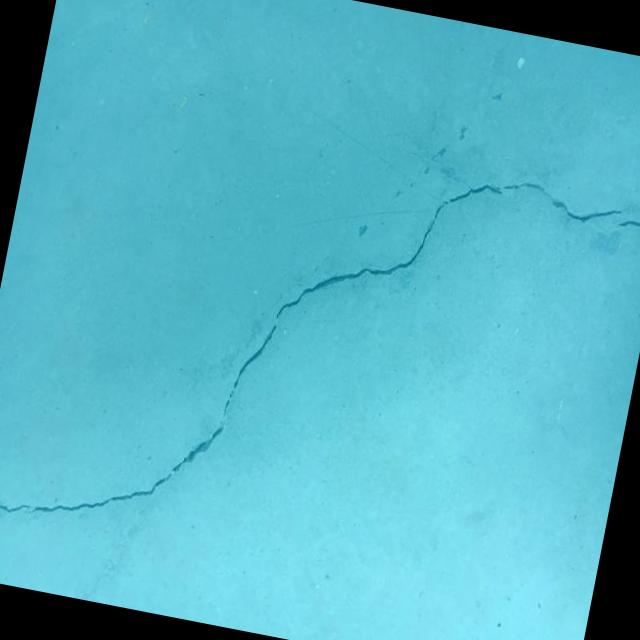crack: (0, 86, 640, 639)
